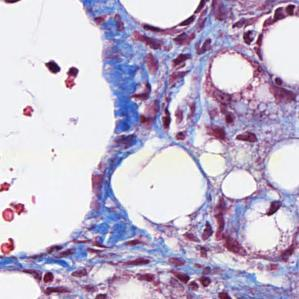ballooning: (108, 133, 214, 238)
